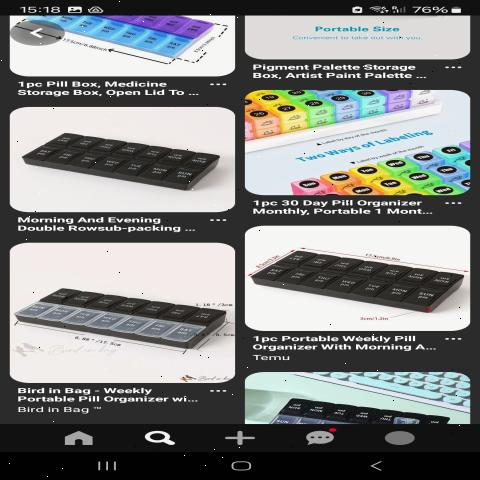PillBox: (11, 278, 223, 366), (13, 122, 232, 202), (253, 243, 470, 322)
